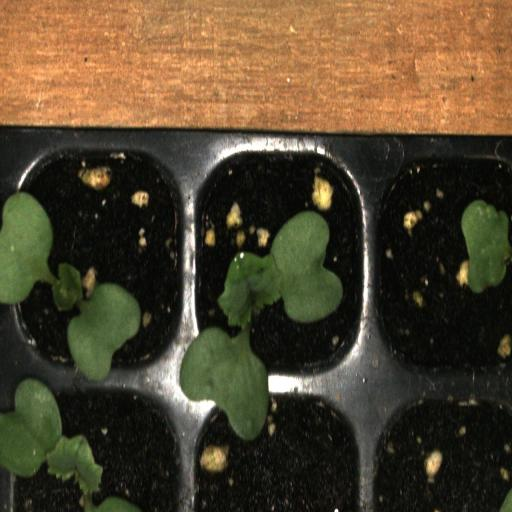Folha: (0, 377, 103, 498), (461, 200, 512, 293)
Germinacao: (190, 144, 371, 386), (8, 142, 188, 384)
